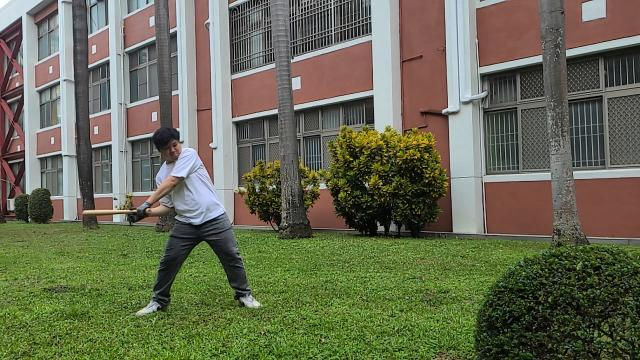baseball bat: (78, 207, 138, 215)
